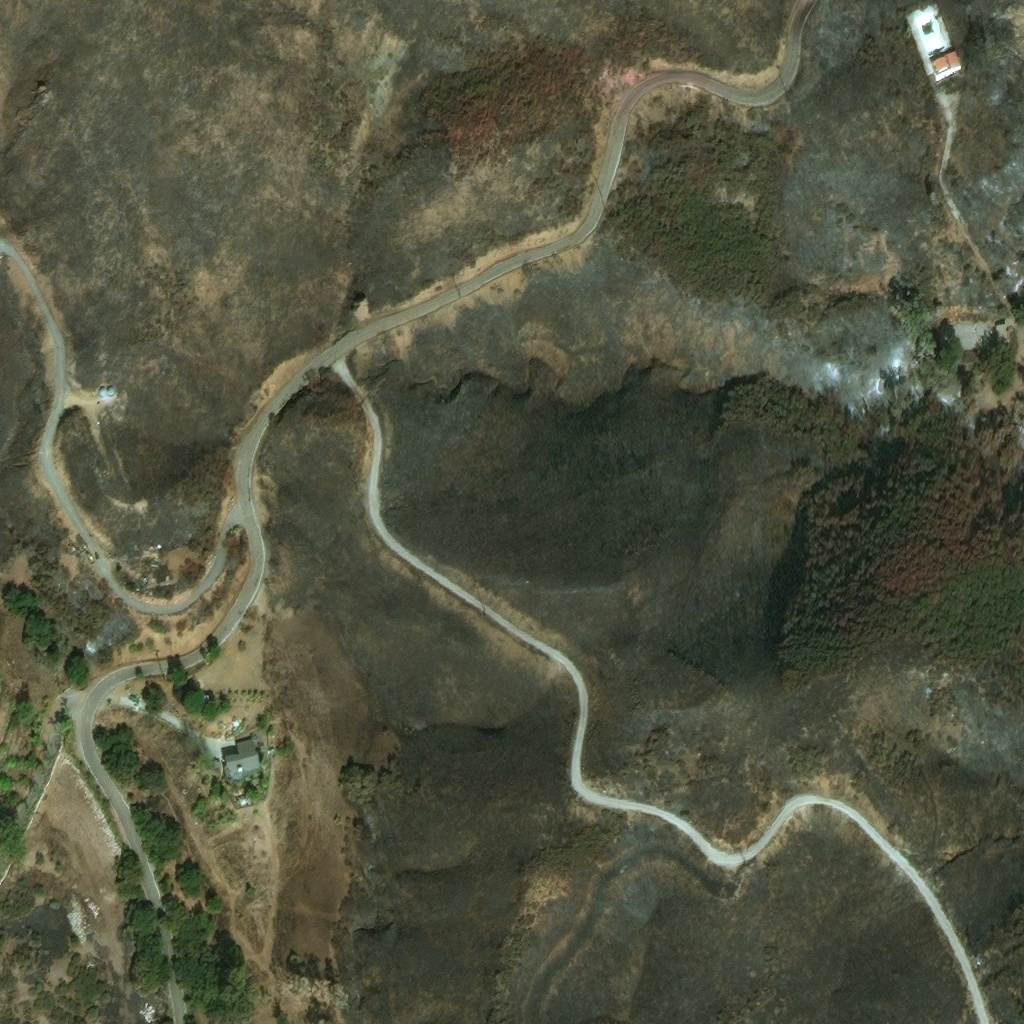0 no-damage: (224, 741, 260, 788), (931, 53, 963, 83), (995, 325, 1006, 345), (245, 724, 255, 734), (99, 390, 106, 398), (108, 390, 115, 398)
